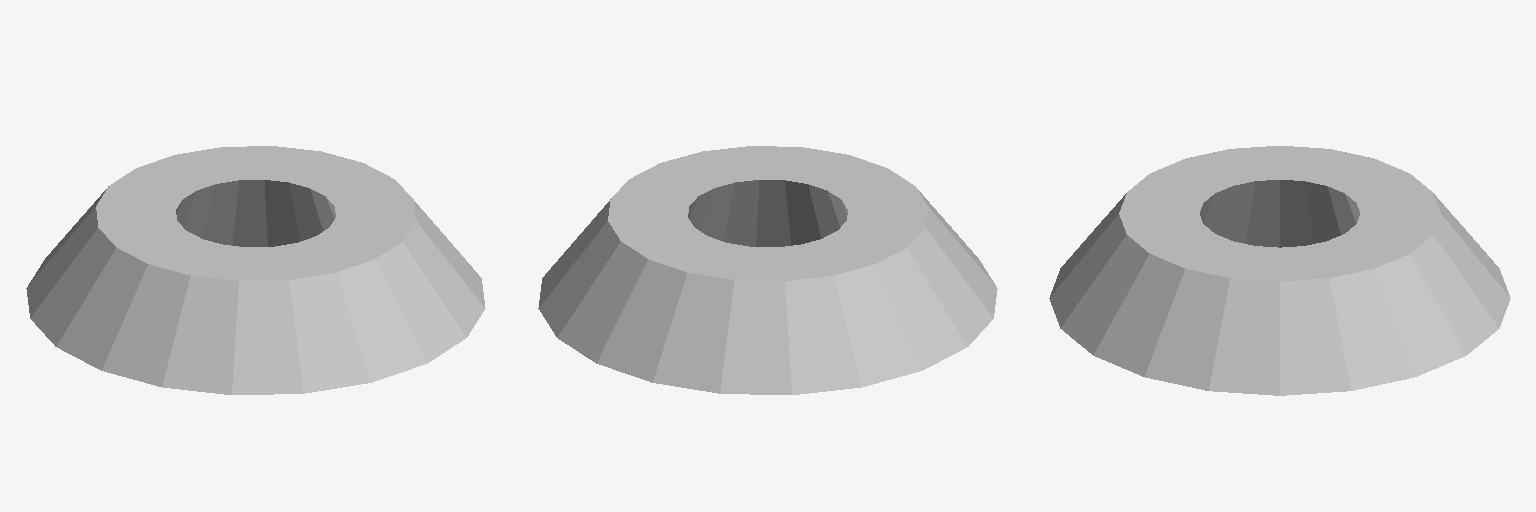
Rendered from HallowCylinderV1.obj.
3 renders of one model, left to right at view 1: azimuth 30°, elevation 25°; view 2: azimuth 150°, elevation 25°; view 3: azimuth 270°, elevation 25°, orthographic.
Visible parts, largest first — view 1: pPipe1; view 2: pPipe1; view 3: pPipe1.
Part boxes in pixels (x1,y1,x2,y2): pPipe1: (26,146,485,394); pPipe1: (538,146,997,394); pPipe1: (1049,146,1510,395).
Bounding box in the file's own units: 0.9897 × 0.2007 × 0.9897.